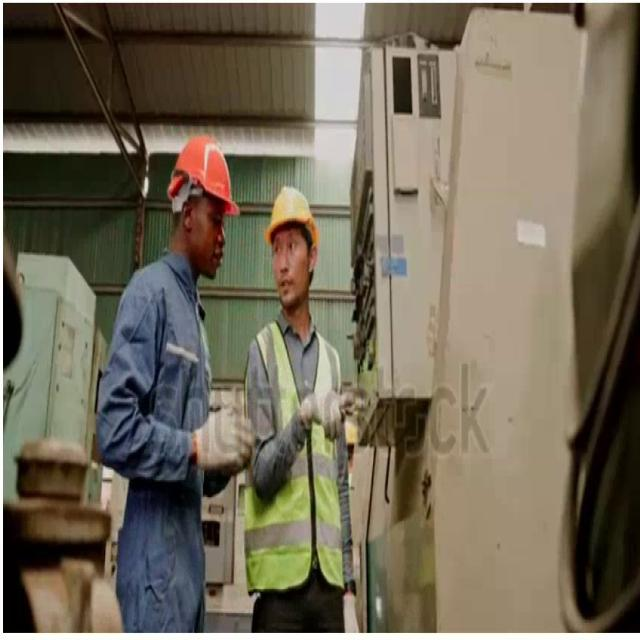gloved: (194, 401, 254, 477), (298, 385, 355, 439), (321, 388, 342, 440), (342, 590, 359, 633)
